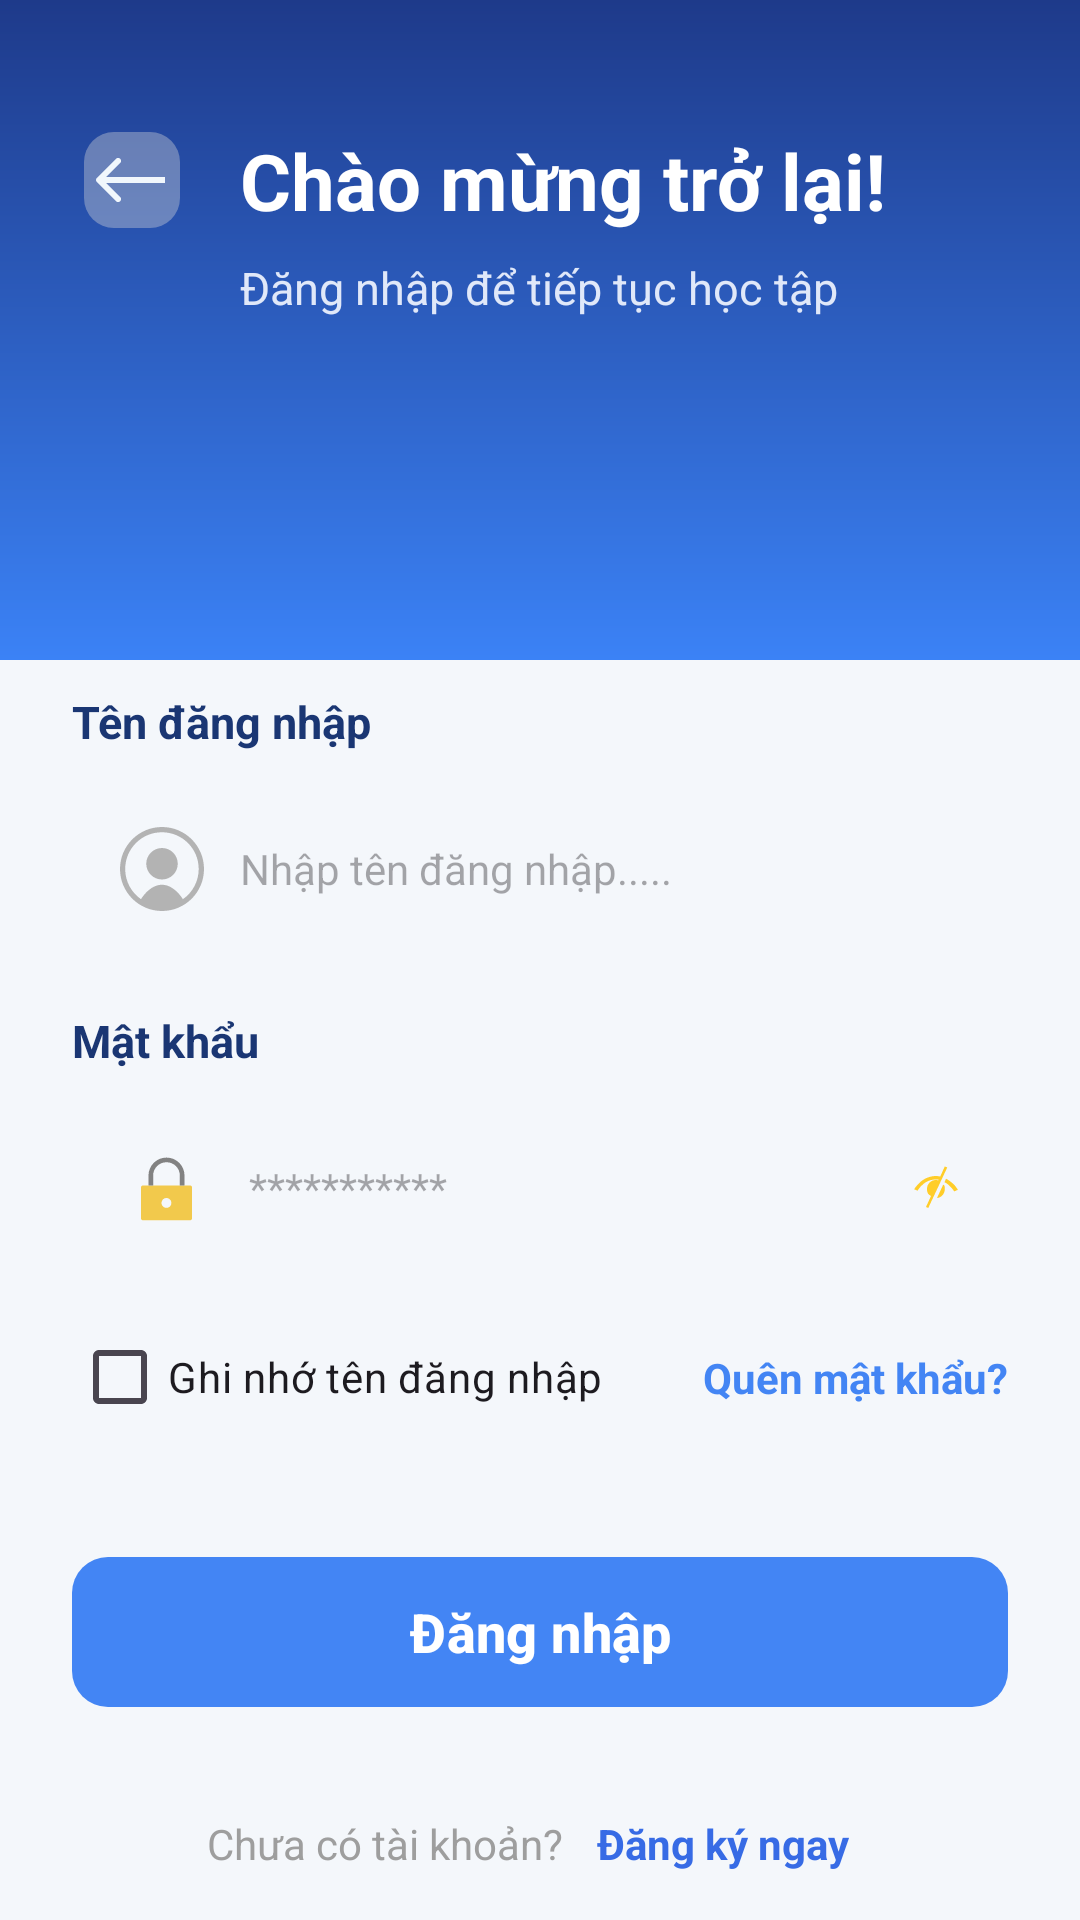

Icon click points for this 1080*1920 phone screenshot, format (x,y):
back: (132,180)
